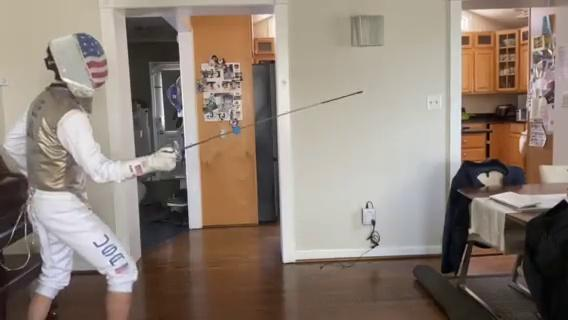blade-guard: (171, 138, 183, 164)
blade-tip: (316, 89, 364, 108)
fencing-blade: (158, 88, 366, 166)
